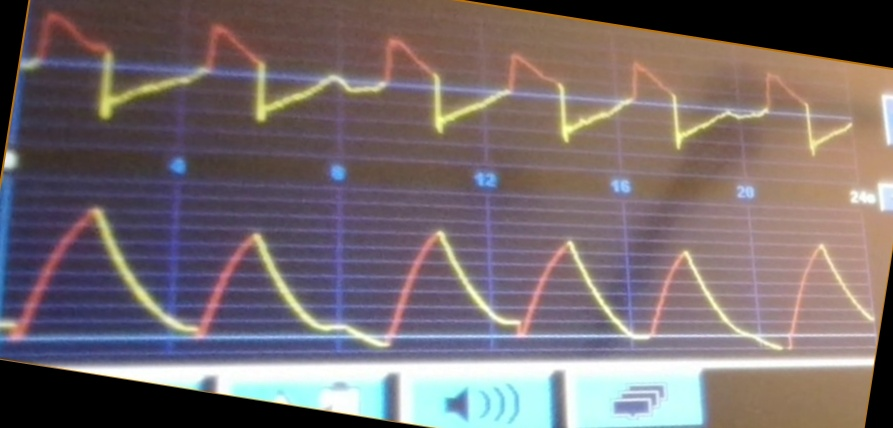Ineffective_effort Flow: (28, 8, 851, 159)
Ineffective_effort Volume: (3, 204, 872, 354)
